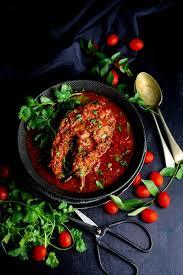Fish Curry: (30, 82, 140, 207)
